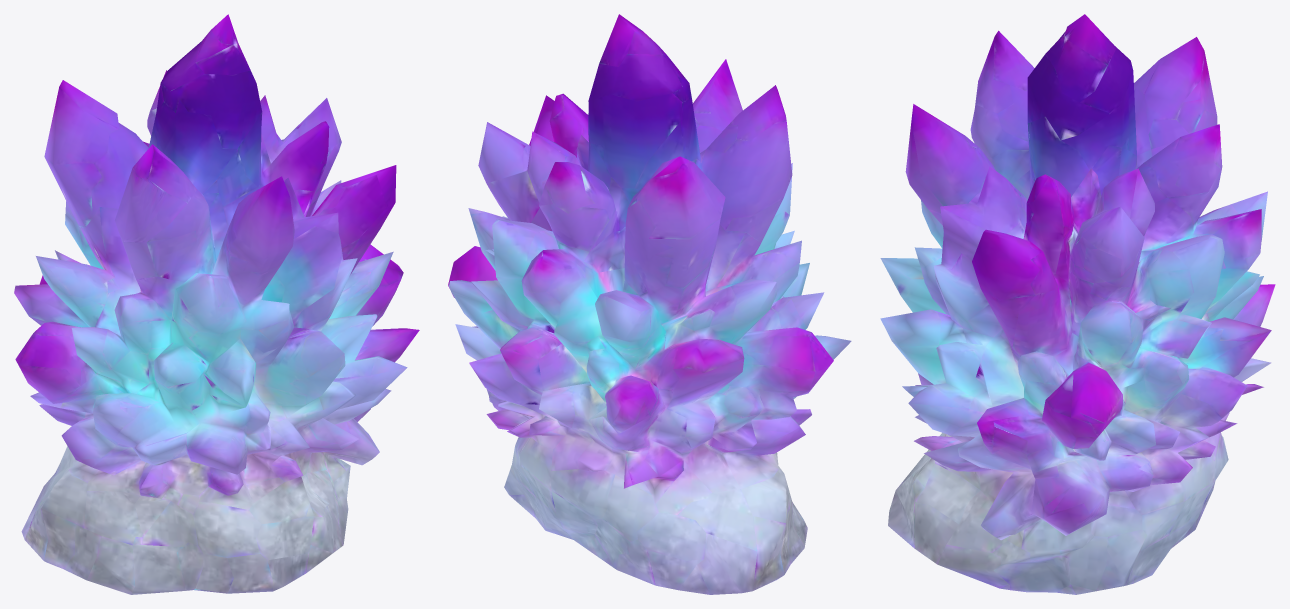
File: crystal_cluster.glb
The picture shows the model from 3 angles, left to right: view 1: azimuth 30°, elevation 25°; view 2: azimuth 150°, elevation 25°; view 3: azimuth 270°, elevation 25°; orthographic projection. The views are drawn at different scales.
Visible parts, largest first — view 1: 0; view 2: 0; view 3: 0.
Part boxes in pixels (x1,y1,x2,y2): 0: (14,14,419,594); 0: (448,14,851,594); 0: (880,14,1275,594).
Bounding box in the file's own units: 1.45 × 1.91 × 1.22.
1 material, 1 textured.
